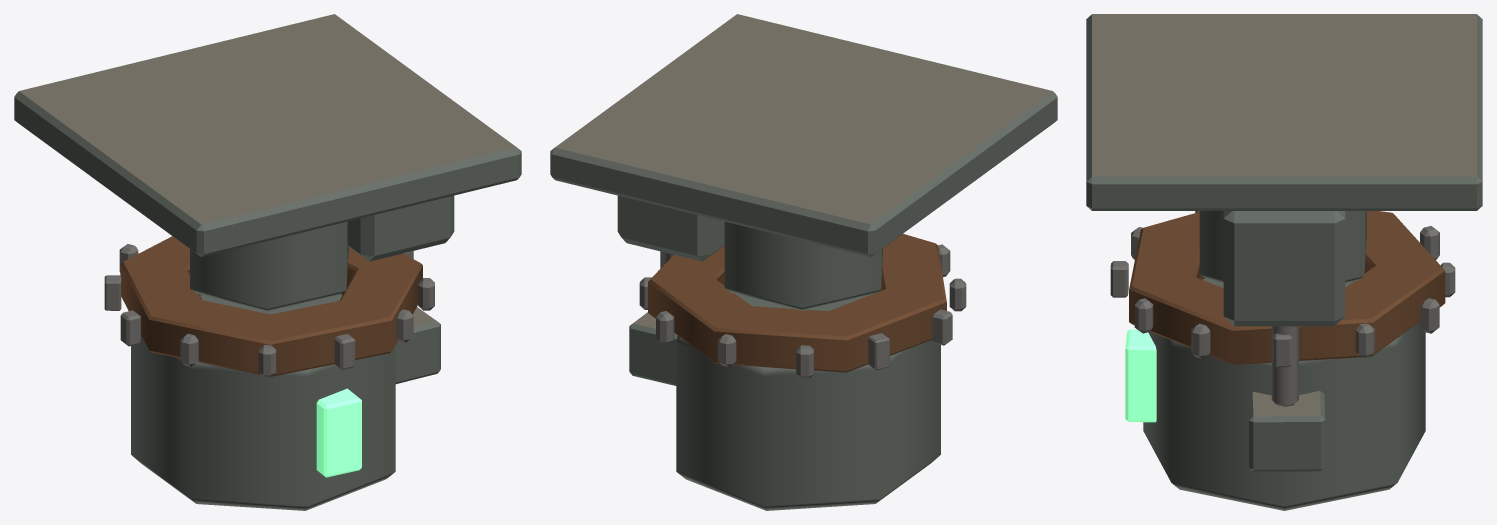
File: R4X_IndependentSteering_LOD1.fbx
3 views of the same model, side by side, from view 1: azimuth 30°, elevation 25°; view 2: azimuth 150°, elevation 25°; view 3: azimuth 270°, elevation 25° (orthographic). The views are drawn at different scales.
Parts seen in each view (by area): view 1: R4X_IndependentSteering_LOD1; view 2: R4X_IndependentSteering_LOD1; view 3: R4X_IndependentSteering_LOD1.
Part boxes in pixels (x1,y1,x2,y2): R4X_IndependentSteering_LOD1: (14, 14, 521, 510); R4X_IndependentSteering_LOD1: (550, 14, 1057, 510); R4X_IndependentSteering_LOD1: (1086, 14, 1482, 510).
Size of the model in its own units: 0.52 by 0.52 by 0.52.
